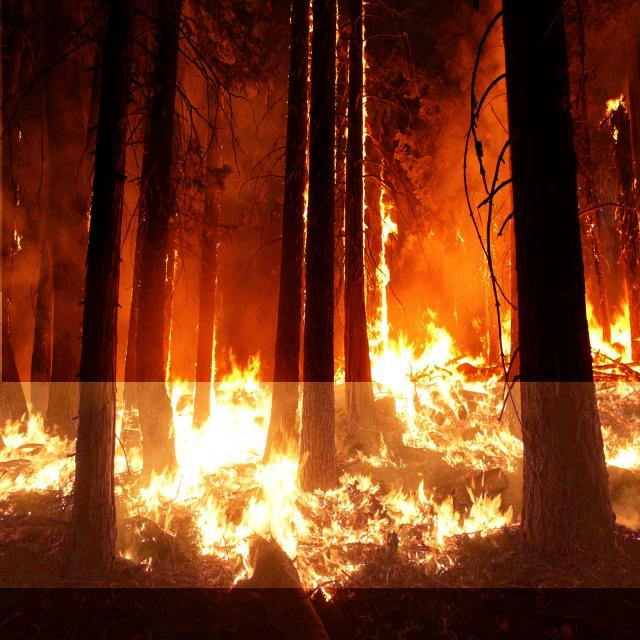Fire: (0, 292, 640, 588)
Smoke: (2, 0, 640, 382)
